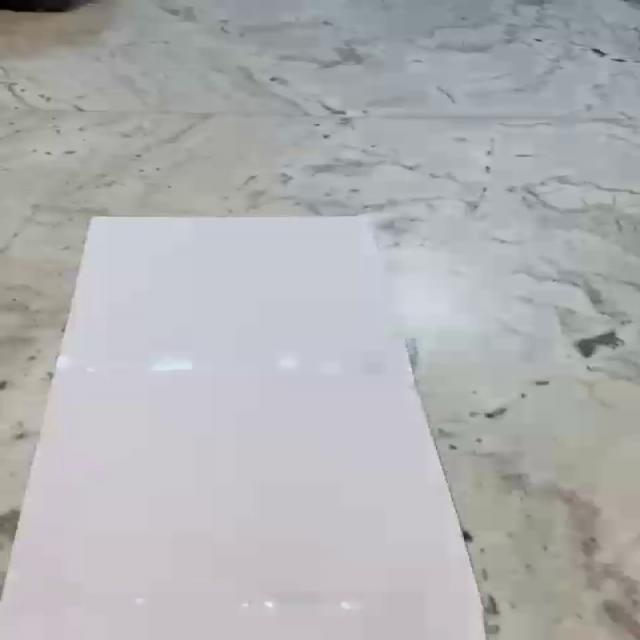road: (0, 216, 488, 640)
